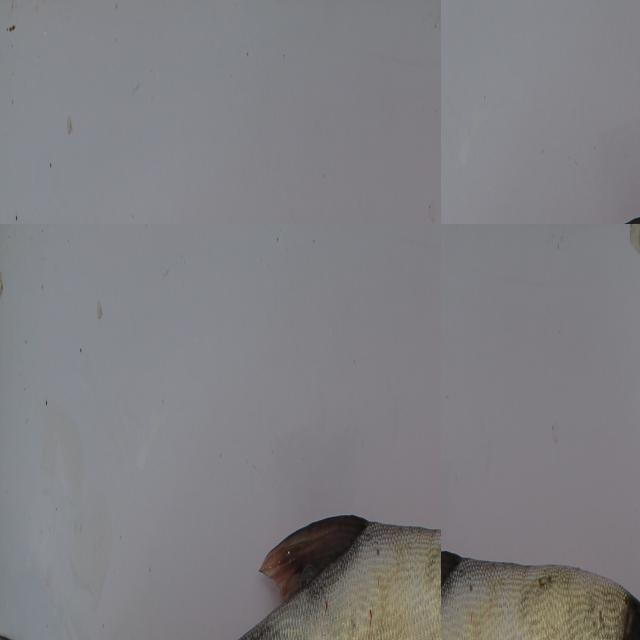fish: (0, 489, 441, 640), (441, 508, 640, 640), (441, 74, 472, 224)
